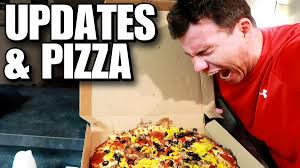pizza: (92, 132, 240, 168)
